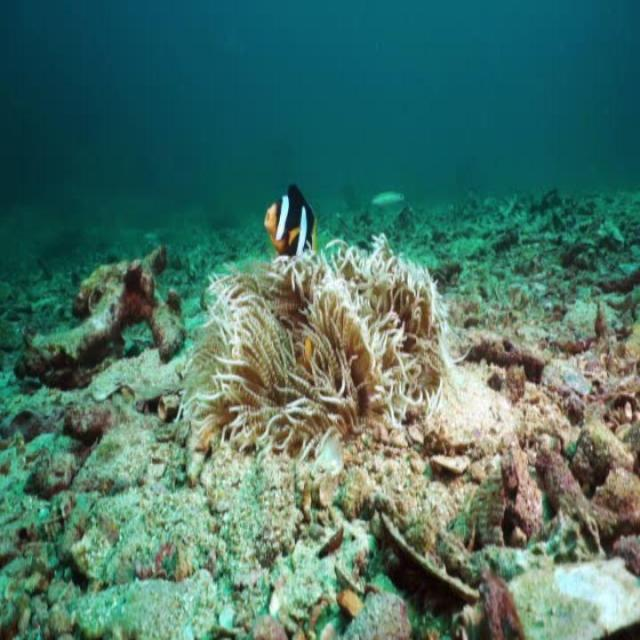Dead Coral: (495, 364, 640, 563), (20, 236, 191, 395), (170, 315, 176, 365)
